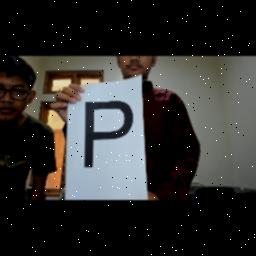p: (79, 98, 139, 178)
